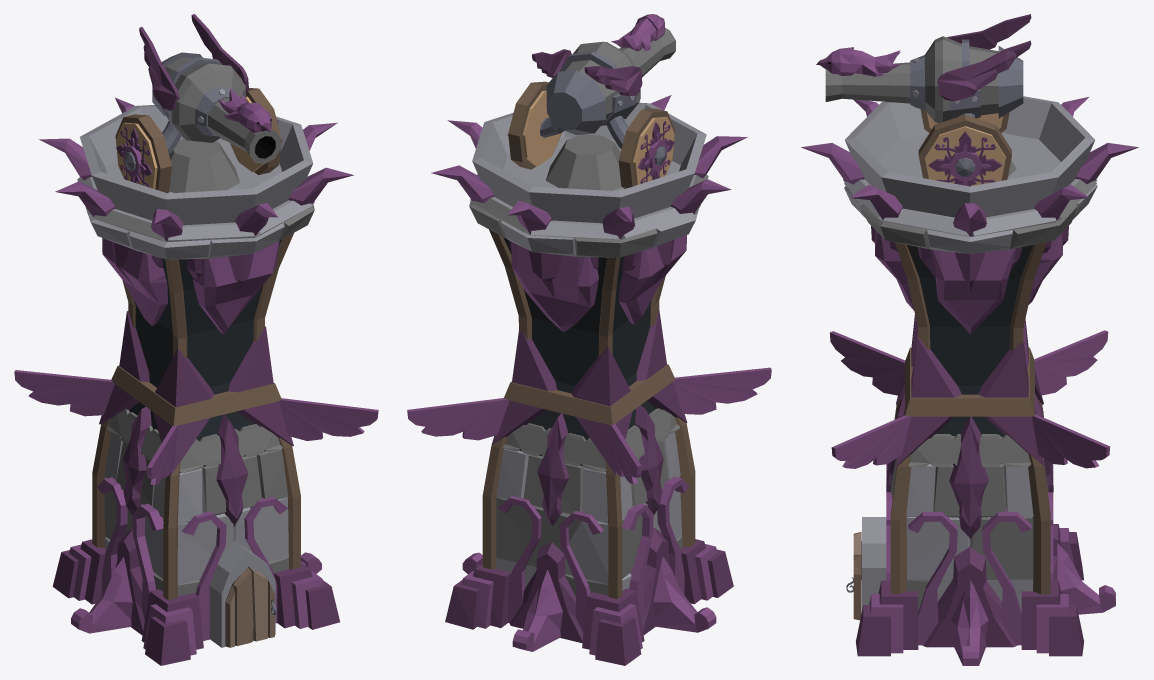
The model's file is Cannon_LVL4.fbx.
The picture shows the model from 3 angles, left to right: view 1: azimuth 30°, elevation 25°; view 2: azimuth 150°, elevation 25°; view 3: azimuth 270°, elevation 25°; orthographic projection. The views are drawn at different scales.
Parts seen in each view (by area): view 1: Cannon_tower_LVL_4, Cannon_tower_LVL_4.002; view 2: Cannon_tower_LVL_4, Cannon_tower_LVL_4.002; view 3: Cannon_tower_LVL_4, Cannon_tower_LVL_4.002.
Part boxes in pixels (x1,y1,x2,y2): Cannon_tower_LVL_4: [14, 97, 378, 665]; Cannon_tower_LVL_4.002: [115, 14, 282, 193]; Cannon_tower_LVL_4: [407, 95, 771, 665]; Cannon_tower_LVL_4.002: [507, 14, 675, 188]; Cannon_tower_LVL_4: [801, 96, 1138, 665]; Cannon_tower_LVL_4.002: [816, 14, 1031, 186].
Bounding box in the file's own units: 802 × 1520 × 802.
